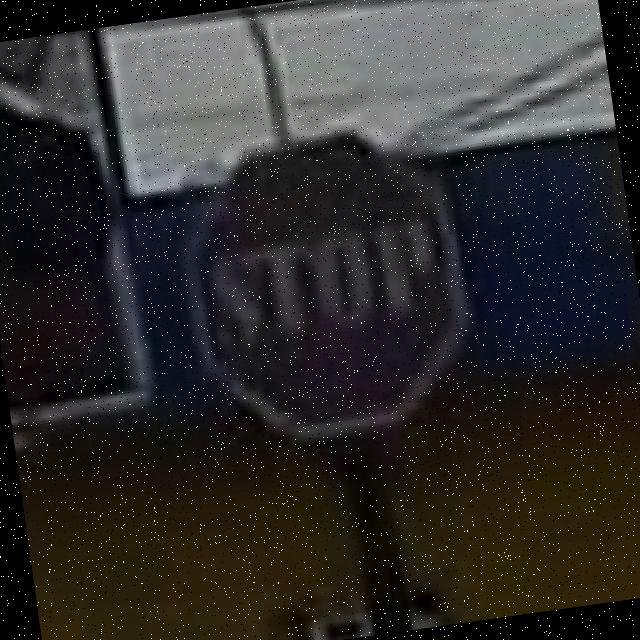Stop: (178, 130, 478, 450)
